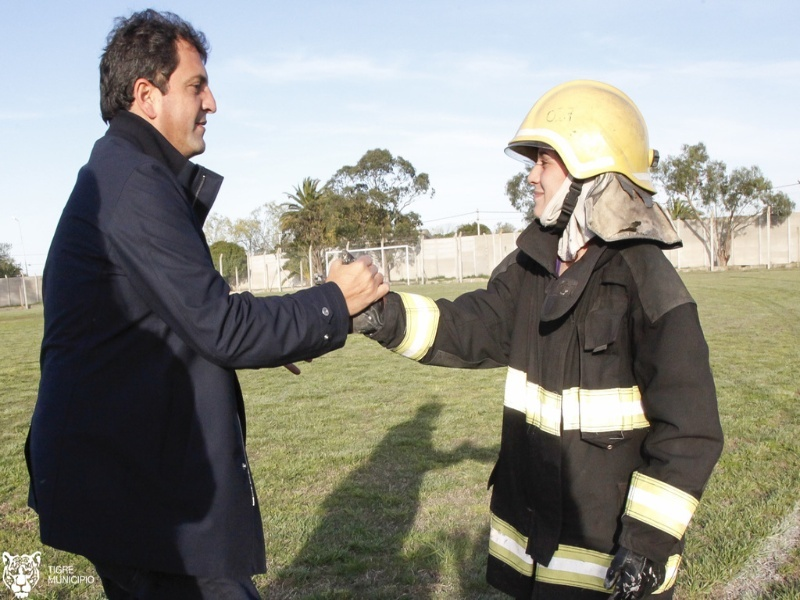Baret: (511, 79, 659, 184)
